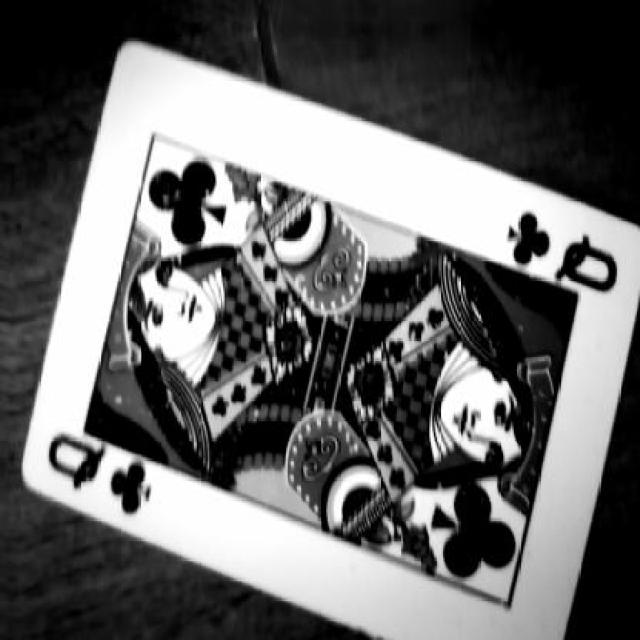QC: (50, 392, 161, 534), (495, 213, 631, 312)
